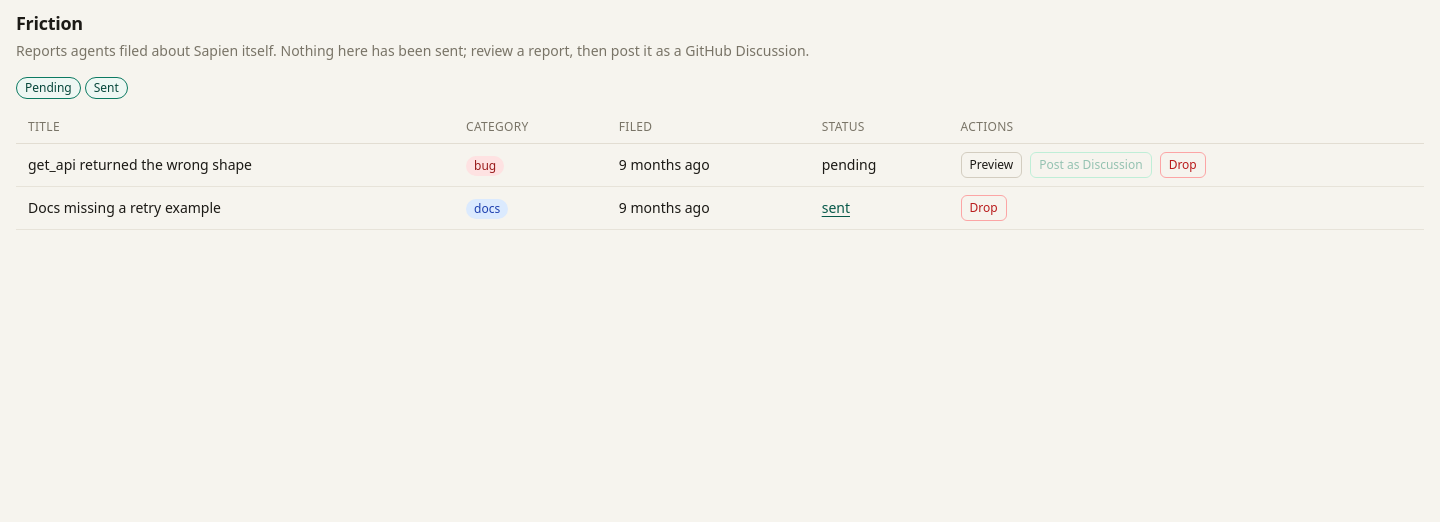
Test case: FrictionPage › expands a row to show tried/happened/would_help and metadata
Click the text "get_api returned the wrong shape" at (235, 165), box [16,144,454,186]
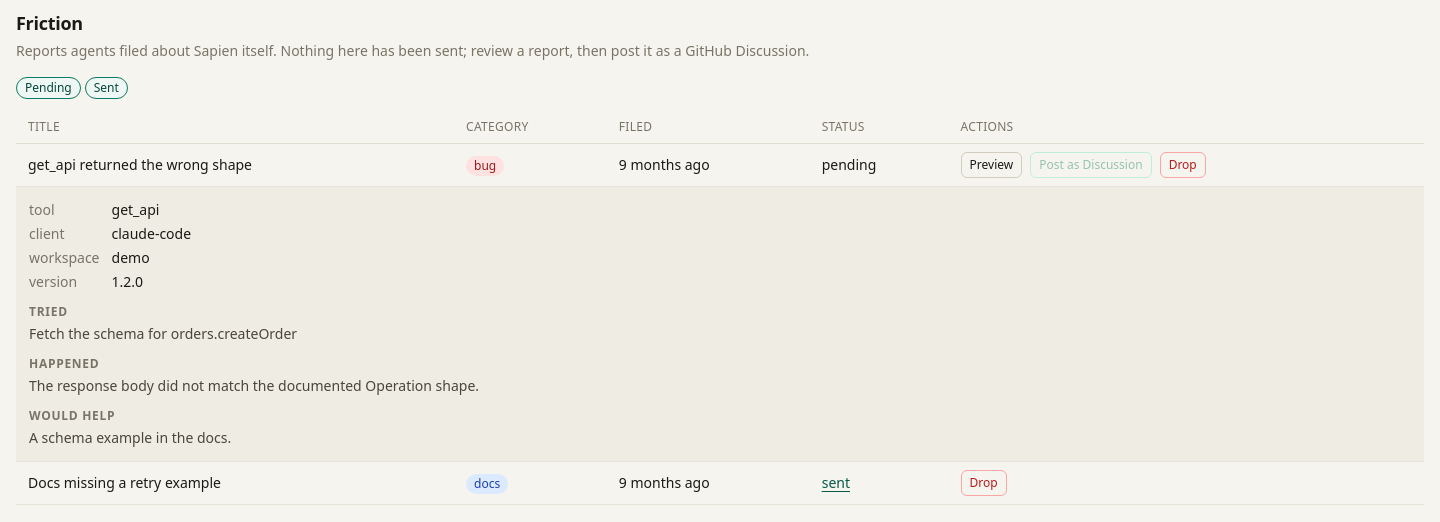
Check: the text "Fetch the schema for orders.createOrder" is shown, box [29,324,297,343]
Check: the text "The response body did not match the documented Operation shape." is shown, box [29,376,479,395]
Check: the text "A schema example in the docs." is shown, box [29,428,231,447]
